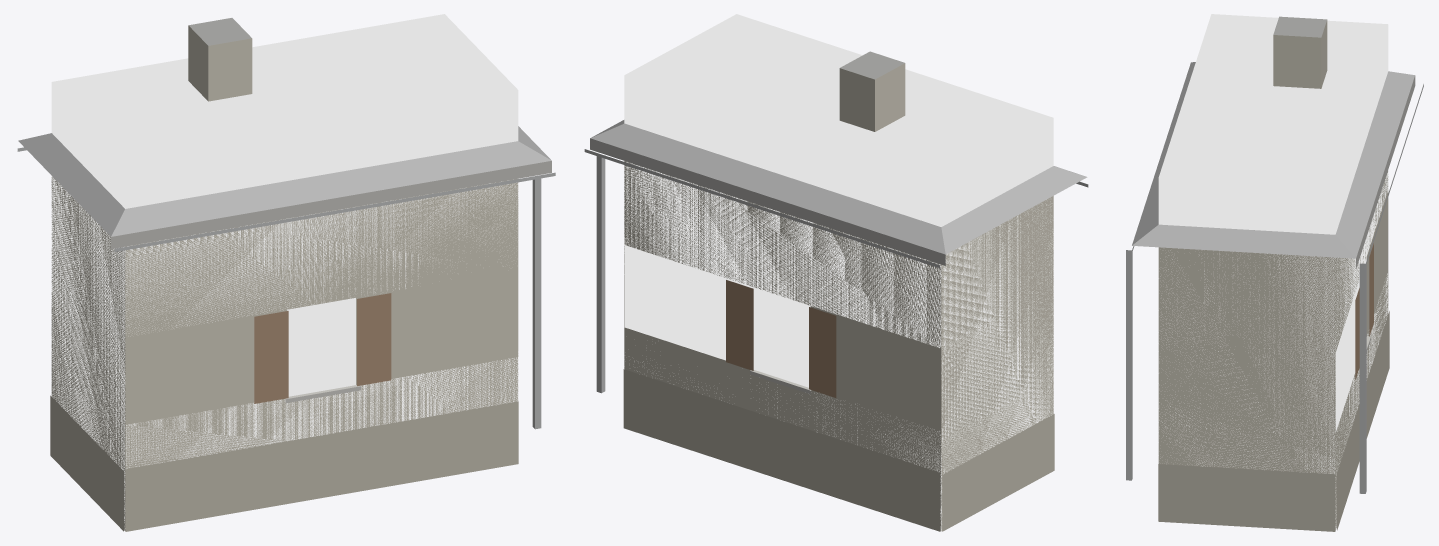
The picture shows the model from 3 angles, left to right: view 1: azimuth 30°, elevation 25°; view 2: azimuth 150°, elevation 25°; view 3: azimuth 270°, elevation 25°; orthographic projection. The views are drawn at different scales.
Parts seen in each view (by area): view 1: bld, col; view 2: bld, col; view 3: bld, col.
Boxes of the visible parts, x1=… form: bld: x1=17, y1=18, x2=555, y2=531; col: x1=51, y1=14, x2=518, y2=529; bld: x1=584, y1=51, x2=1088, y2=531; col: x1=624, y1=14, x2=1053, y2=530; bld: x1=1126, y1=16, x2=1423, y2=531; col: x1=1158, y1=14, x2=1388, y2=530.
Size of the model in its own units: 6.86 by 6.39 by 4.43.
